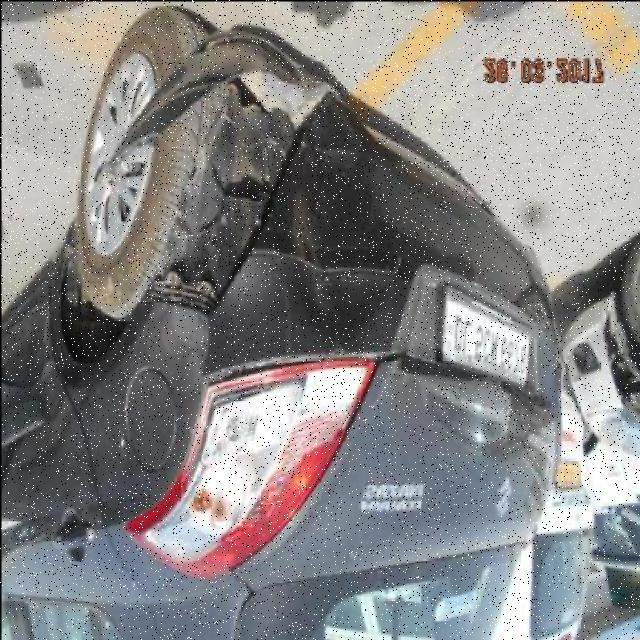damage: (146, 65, 334, 315), (279, 108, 395, 344)
